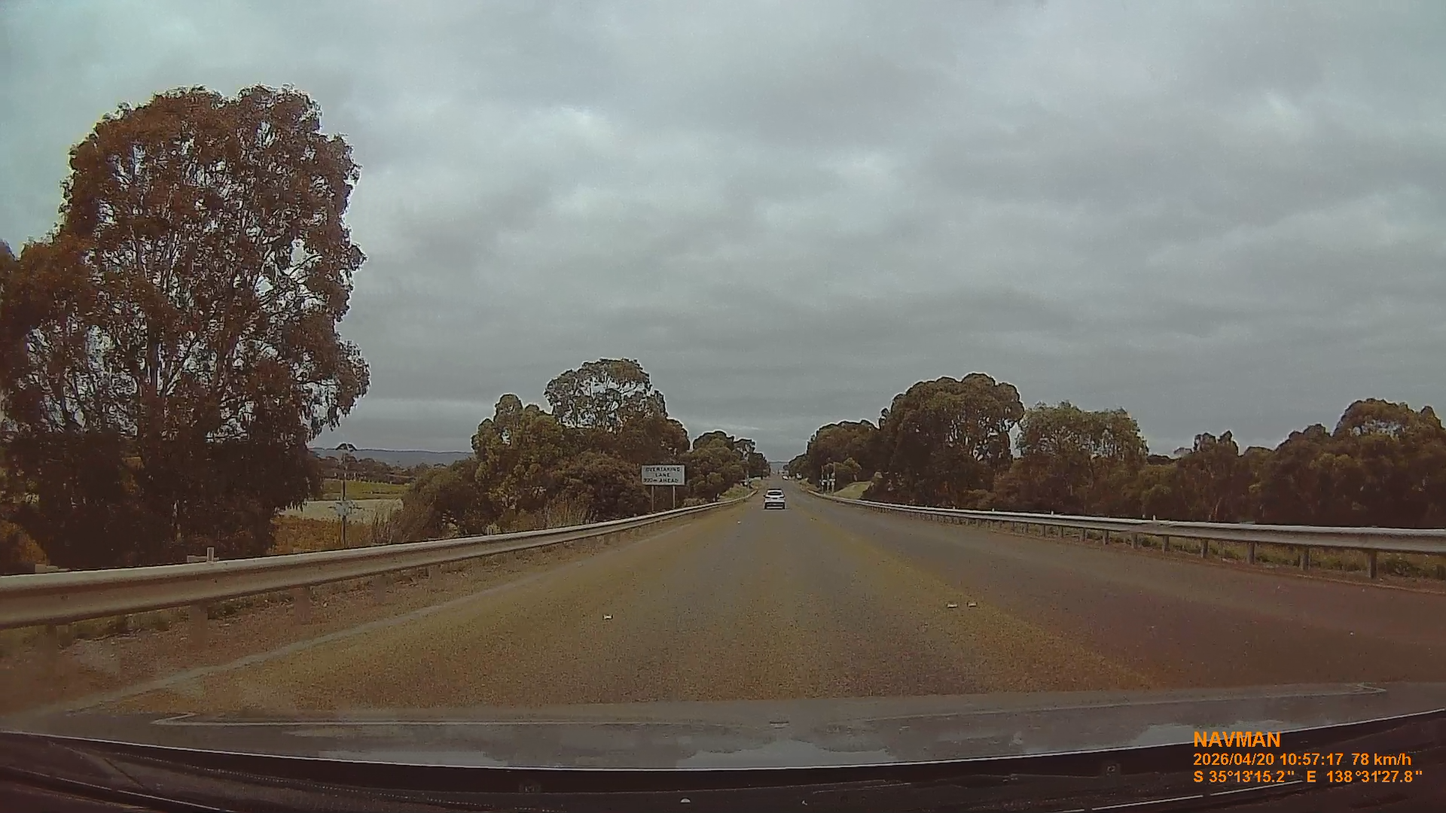road barriers: (0, 508, 711, 629), (837, 499, 1445, 590)
